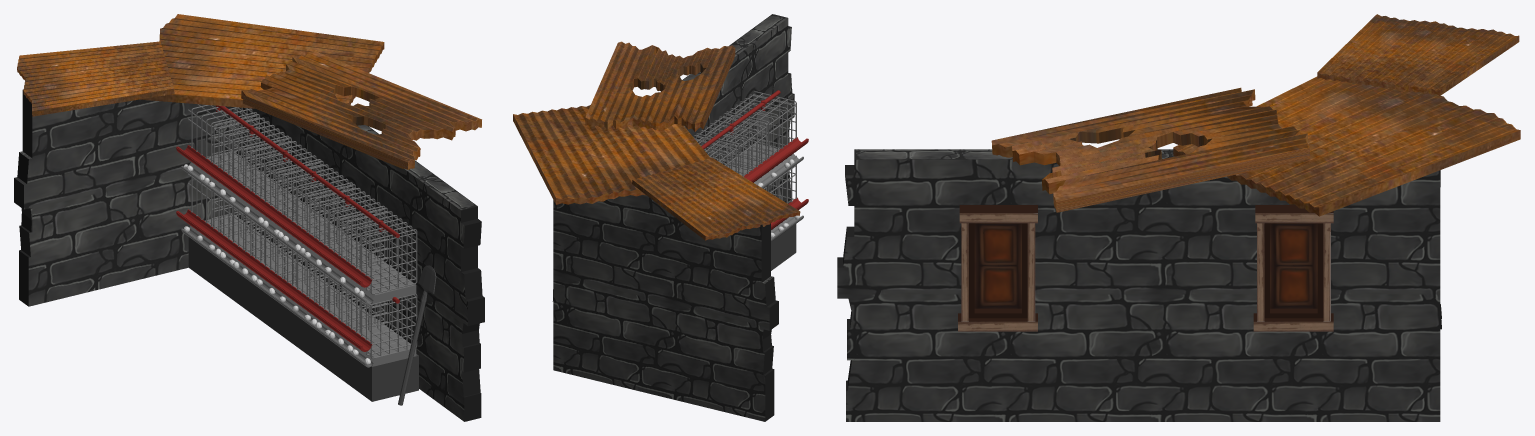
Rendered from chicken stable.fbx.
3 views of the same model, side by side, from view 1: azimuth 30°, elevation 25°; view 2: azimuth 150°, elevation 25°; view 3: azimuth 270°, elevation 25° (orthographic). The views are drawn at different scales.
Parts seen in each view (by area): view 1: chicken cage, side wall, back wall, metal plate 2, metal plate, metal plate 3, Cube, sides, side, shovel; view 2: side wall, metal plate, metal plate 2, metal plate 3, back wall, chicken cage, side, Cube; view 3: back wall, metal plate, metal plate 2, metal plate 3, window "glass".001, window "glass", wood around window.001, wood around window, wooden window.001, wooden window.
Part boxes in pixels (x1,y1,x2,y2): chicken cage: (176,104,417,367); side wall: (14,89,237,306); back wall: (237,107,477,421); metal plate 2: (241,51,481,169); metal plate: (140,14,384,108); metal plate 3: (17,41,174,116); Cube: (188,237,418,401); sides: (461,206,484,421); side: (14,90,32,306); shovel: (398,265,436,405); side wall: (553,195,778,421); metal plate: (513,105,710,204); metal plate 2: (585,41,735,131); metal plate 3: (632,157,800,240); back wall: (552,14,794,304); chicken cage: (693,90,808,241); side: (761,223,778,421); Cube: (771,224,796,270); back wall: (837,149,1441,421); metal plate: (1173,76,1520,216); metal plate 2: (991,87,1310,212); metal plate 3: (1317,14,1519,95); window "glass".001: (974,224,1021,308); window "glass": (1270,224,1317,308); wood around window.001: (958,213,1037,331); wood around window: (1253,213,1333,331); wooden window.001: (958,205,1037,321); wooden window: (1253,205,1333,321).
Size of the model in its own units: 866 by 572 by 1241.
